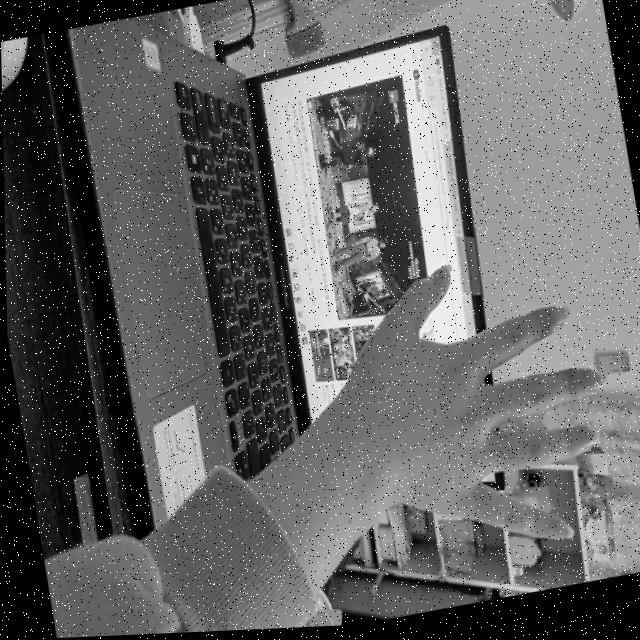no-gloves: (320, 239, 629, 582)
